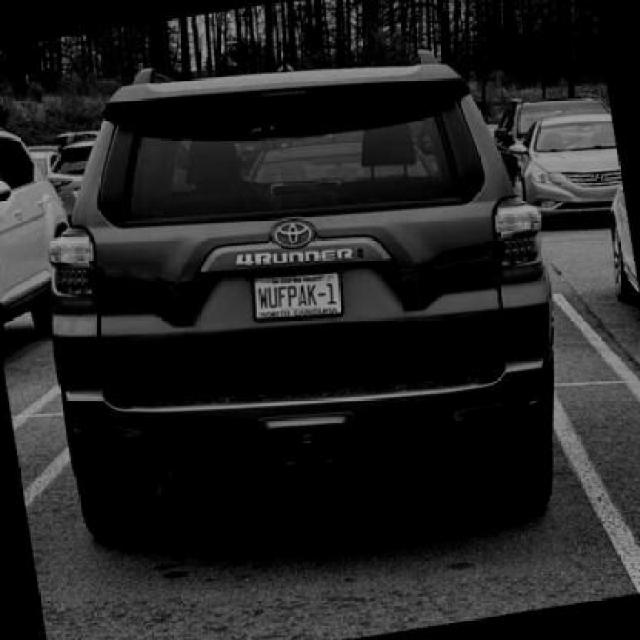licenseplate: (249, 269, 344, 321)
